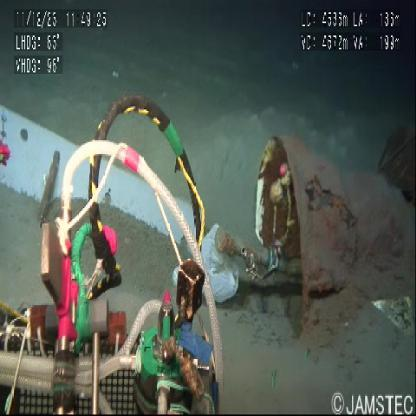Rác: (173, 223, 239, 304)
